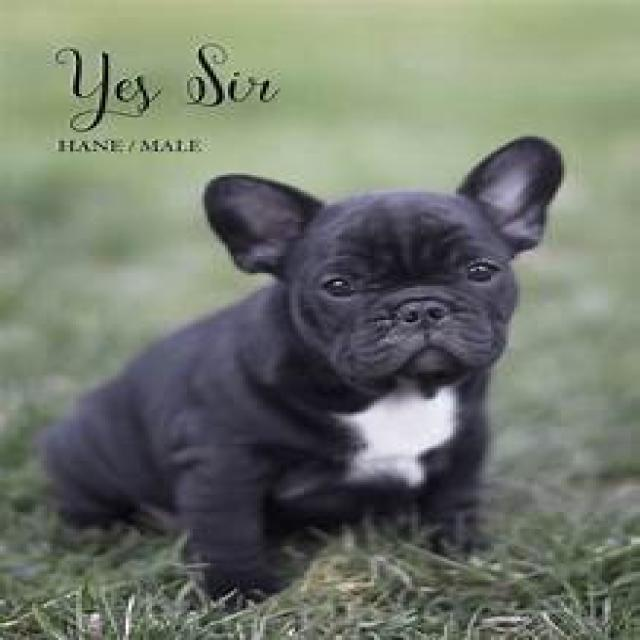dog: (45, 138, 563, 594)
